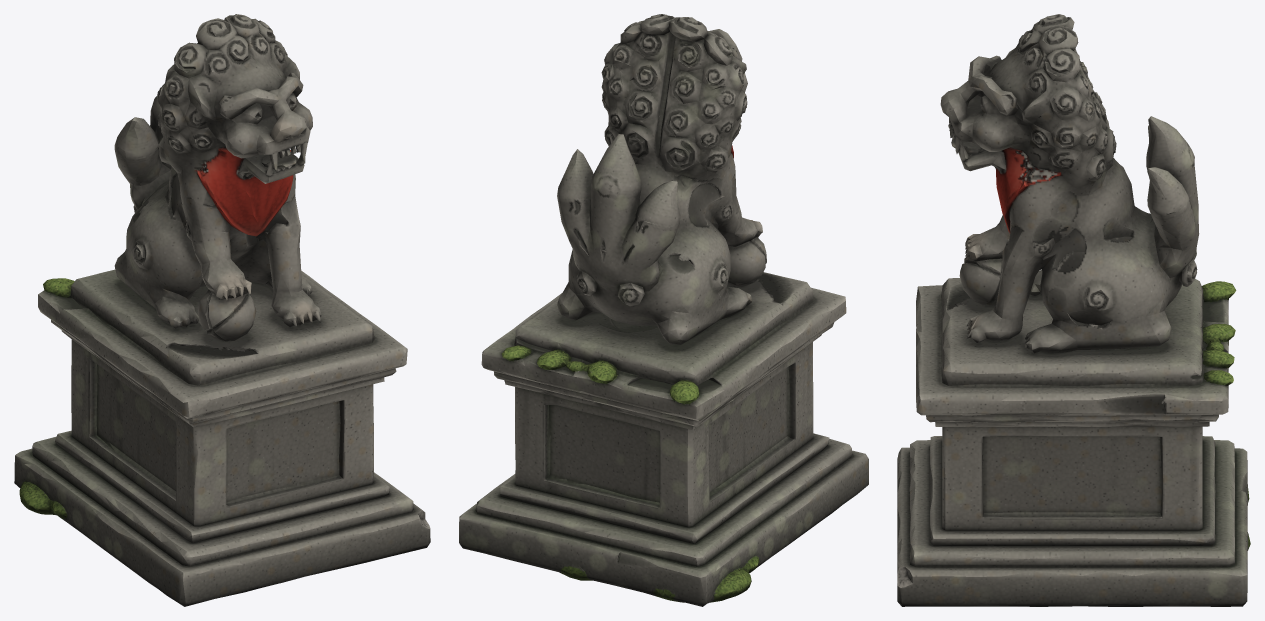
File: komainu_a.glb
3 views of the same model, side by side, from view 1: azimuth 30°, elevation 25°; view 2: azimuth 150°, elevation 25°; view 3: azimuth 270°, elevation 25° (orthographic). The views are drawn at different scales.
Parts seen in each view (by area): view 1: komainu_a_LOD0; view 2: komainu_a_LOD0; view 3: komainu_a_LOD0.
Part boxes in pixels (left/top/right/bottom): komainu_a_LOD0: left=14, top=14, right=430, bottom=606; komainu_a_LOD0: left=459, top=14, right=868, bottom=606; komainu_a_LOD0: left=897, top=14, right=1250, bottom=606.
Size of what is drawn, in the model's own units: 1.27 by 2.34 by 1.41.
3 materials, 3 textured.
